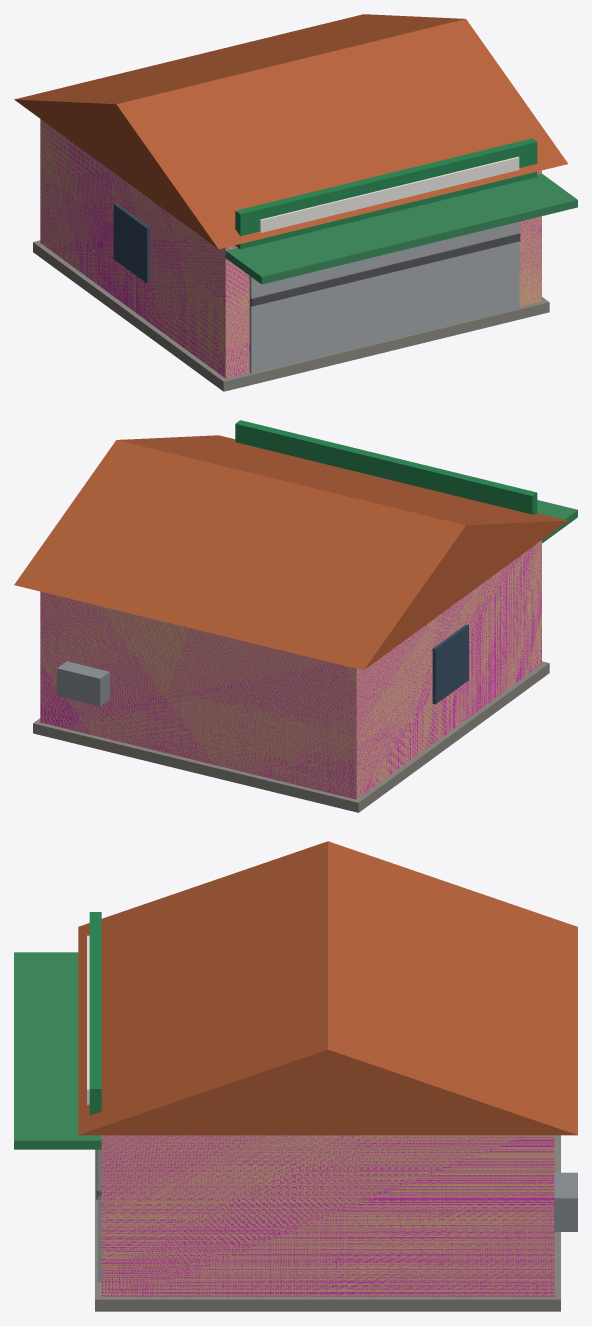
Rendered from Shop_1S_03.glb.
The picture shows the model from 3 angles, top to bottom: view 1: azimuth 30°, elevation 25°; view 2: azimuth 150°, elevation 25°; view 3: azimuth 270°, elevation 25°; orthographic projection. The views are drawn at different scales.
Parts seen in each view (by area): view 1: Shop_1S_03, Shop_1S_03_COL; view 2: Shop_1S_03, Shop_1S_03_COL; view 3: Shop_1S_03, Shop_1S_03_COL.
Part boxes in pixels (<box>): Shop_1S_03: <box>14,14,577,391</box>; Shop_1S_03_COL: <box>40,121,541,377</box>; Shop_1S_03: <box>14,420,577,812</box>; Shop_1S_03_COL: <box>40,541,541,798</box>; Shop_1S_03: <box>14,841,577,1311</box>; Shop_1S_03_COL: <box>101,1135,554,1296</box>.
Bounding box in the file's own units: 7.3 × 4.4 × 8.35.
